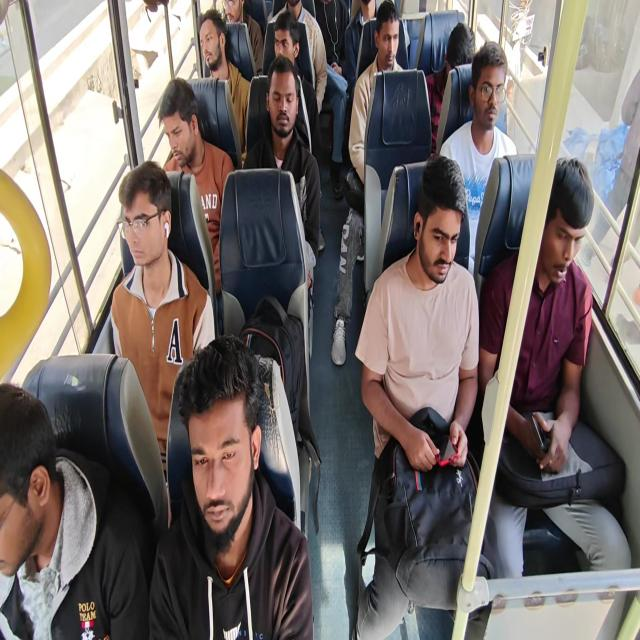person: (180, 348, 268, 564), (0, 379, 52, 584), (544, 150, 595, 310), (112, 164, 174, 292), (412, 158, 463, 312), (156, 77, 201, 169), (469, 40, 508, 142), (270, 52, 306, 154), (194, 18, 226, 85), (446, 21, 479, 78), (378, 0, 405, 69), (270, 14, 298, 65), (219, 0, 240, 24)
